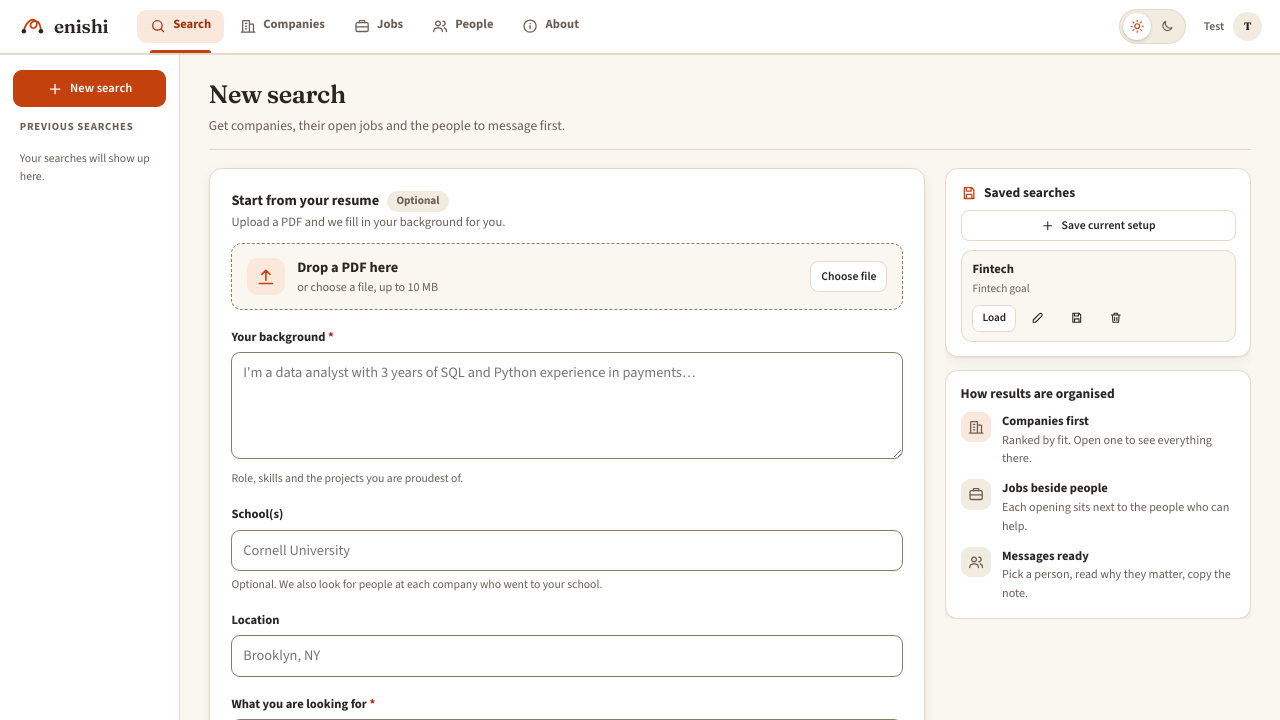
Scenario: search configurations panel › shows the server error when a rename fails and keeps editing
Click the button named "Rename Fintech": (1038, 318) [1022,305,1055,332]
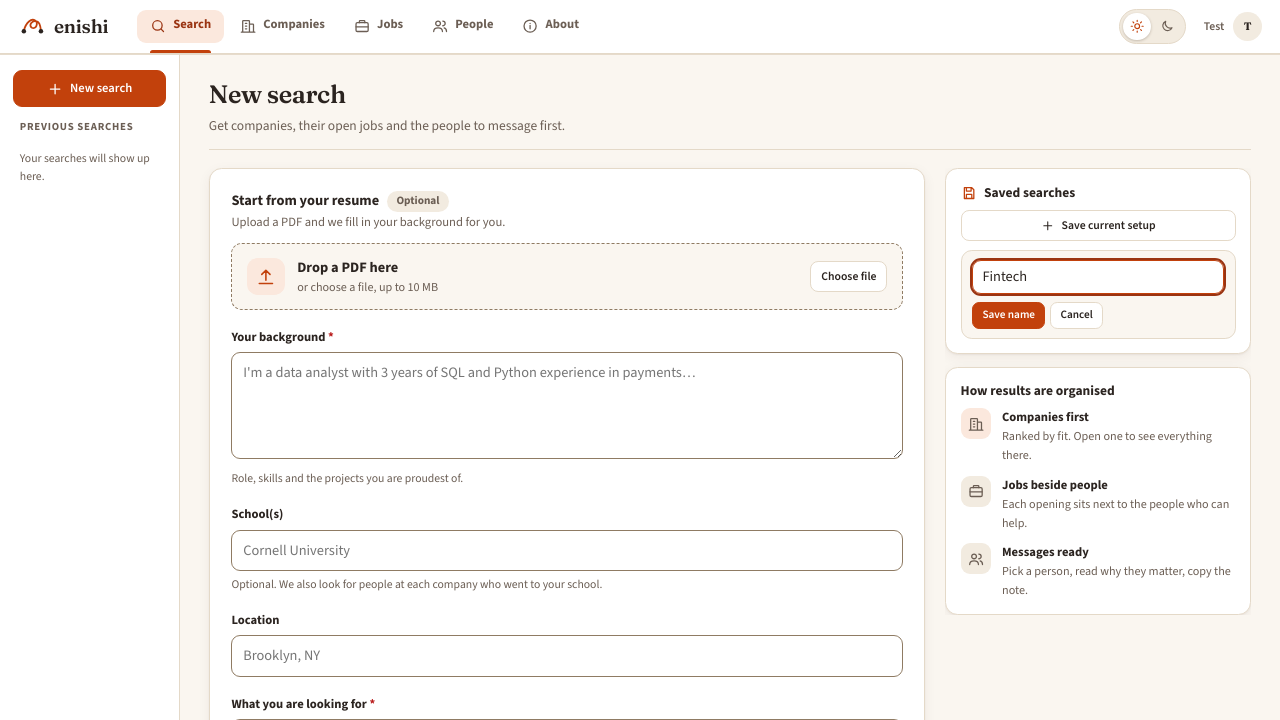
In the field named "Configuration name": (1098, 277) [972,260,1224,294], type "x"
Then press Enter
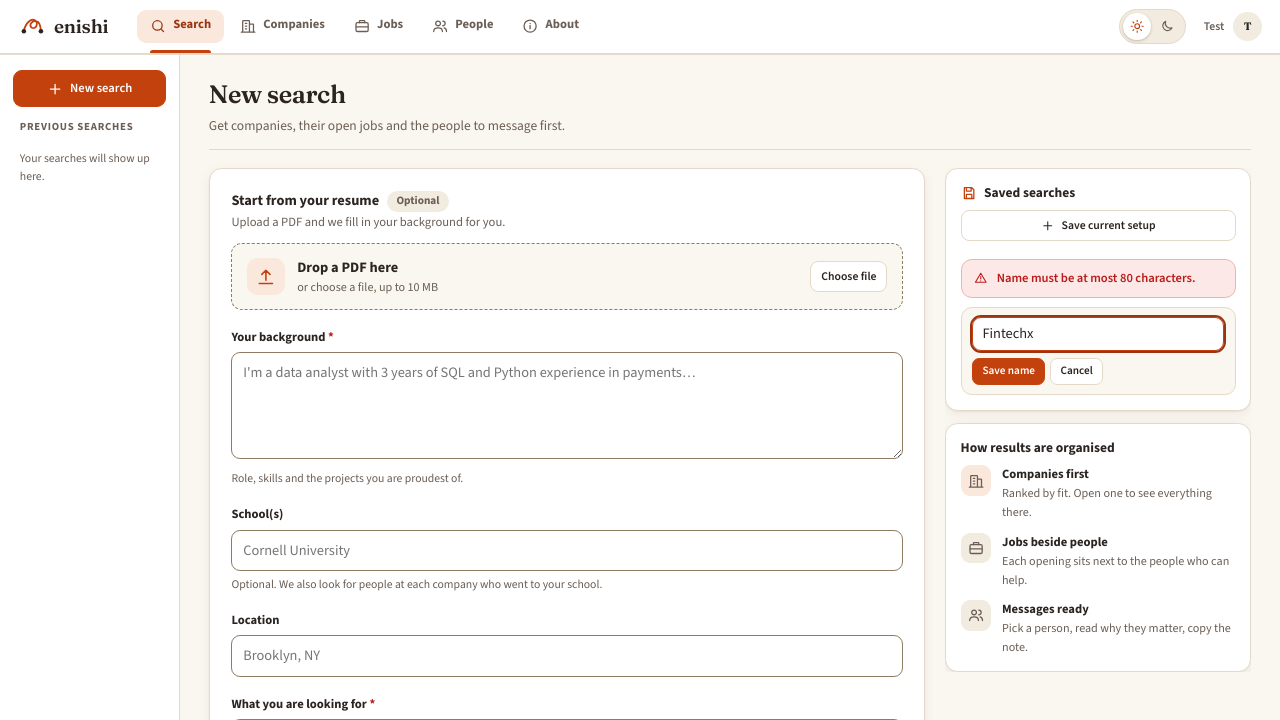
Expected: the field named "Configuration name" is shown, [972,317,1224,351]
Expected: the message shows "at most 80", [997,269,1196,286]
